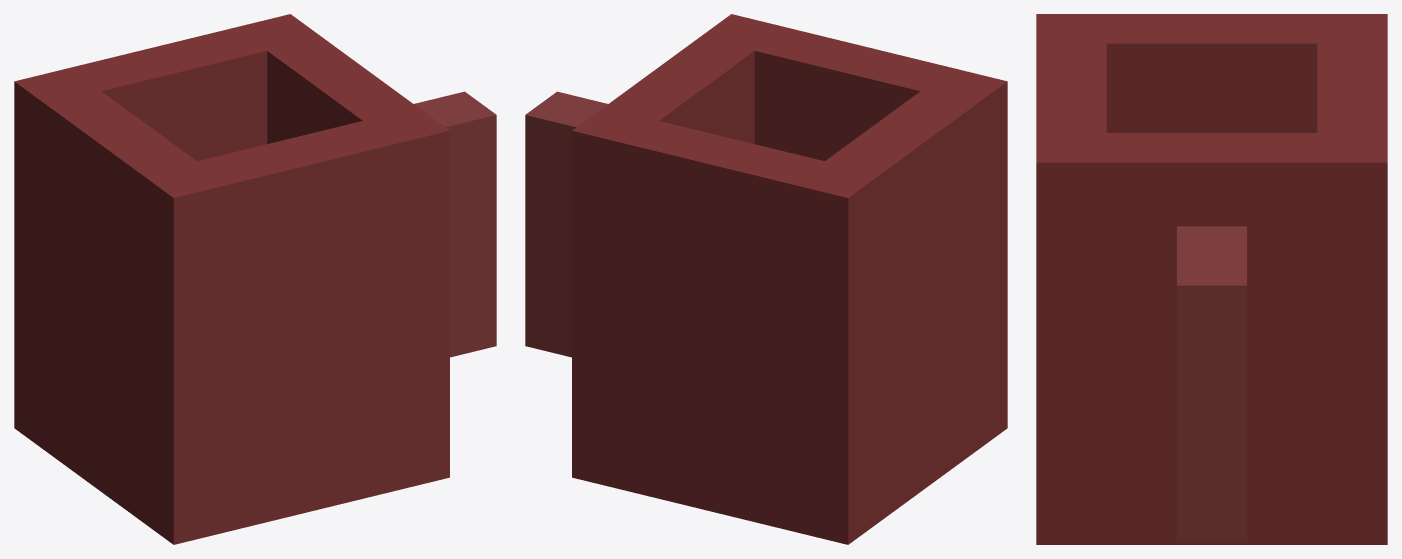
Rendered from mugred.fbx.
3 views of the same model, side by side, from view 1: azimuth 30°, elevation 25°; view 2: azimuth 150°, elevation 25°; view 3: azimuth 270°, elevation 25° (orthographic). The views are drawn at different scales.
Parts seen in each view (by area): view 1: mugred; view 2: mugred; view 3: mugred.
Part boxes in pixels (box(x1,y1,x2,y2)): mugred: box(14, 14, 496, 544); mugred: box(525, 14, 1007, 544); mugred: box(1036, 14, 1387, 544).
Bounding box in the file's own units: 7 × 6 × 5.
